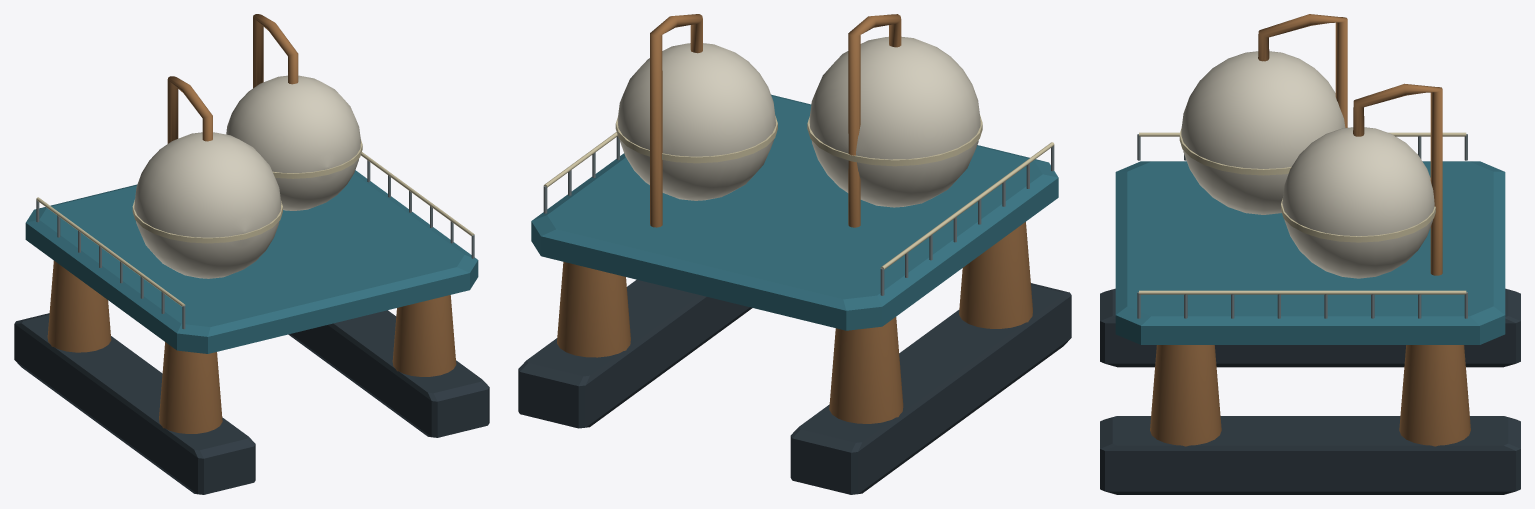
The model's file is vista_thalassa.glb.
The picture shows the model from 3 angles, left to right: view 1: azimuth 30°, elevation 25°; view 2: azimuth 150°, elevation 25°; view 3: azimuth 270°, elevation 25°; orthographic projection. The views are drawn at different scales.
Parts seen in each view (by area): view 1: vista_thalassa; view 2: vista_thalassa; view 3: vista_thalassa.
Part boxes in pixels (<box>): vista_thalassa: <box>14,14,489,494</box>; vista_thalassa: <box>518,14,1071,494</box>; vista_thalassa: <box>1100,14,1520,494</box>.
Bounding box in the file's own units: 25 × 25.93 × 27.
